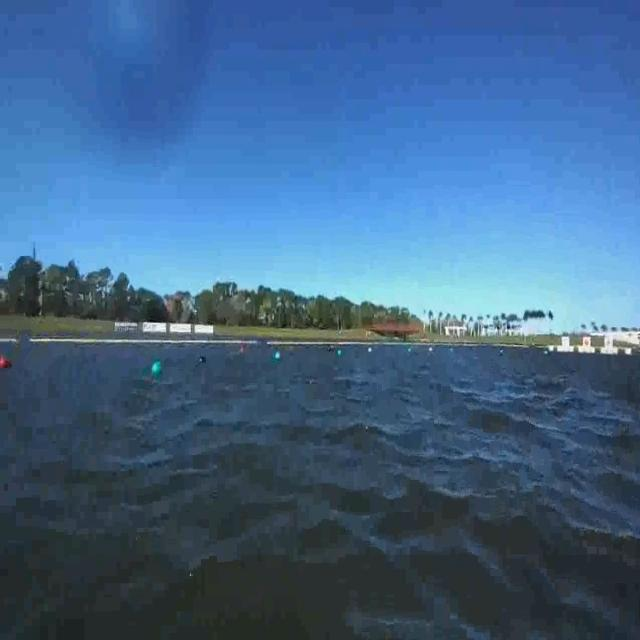green-buoy: (152, 360, 162, 376)
red-buoy: (0, 357, 9, 367)
